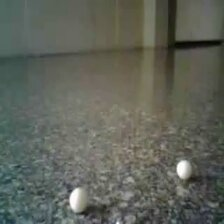w: (68, 187, 90, 213), (176, 159, 193, 179)
